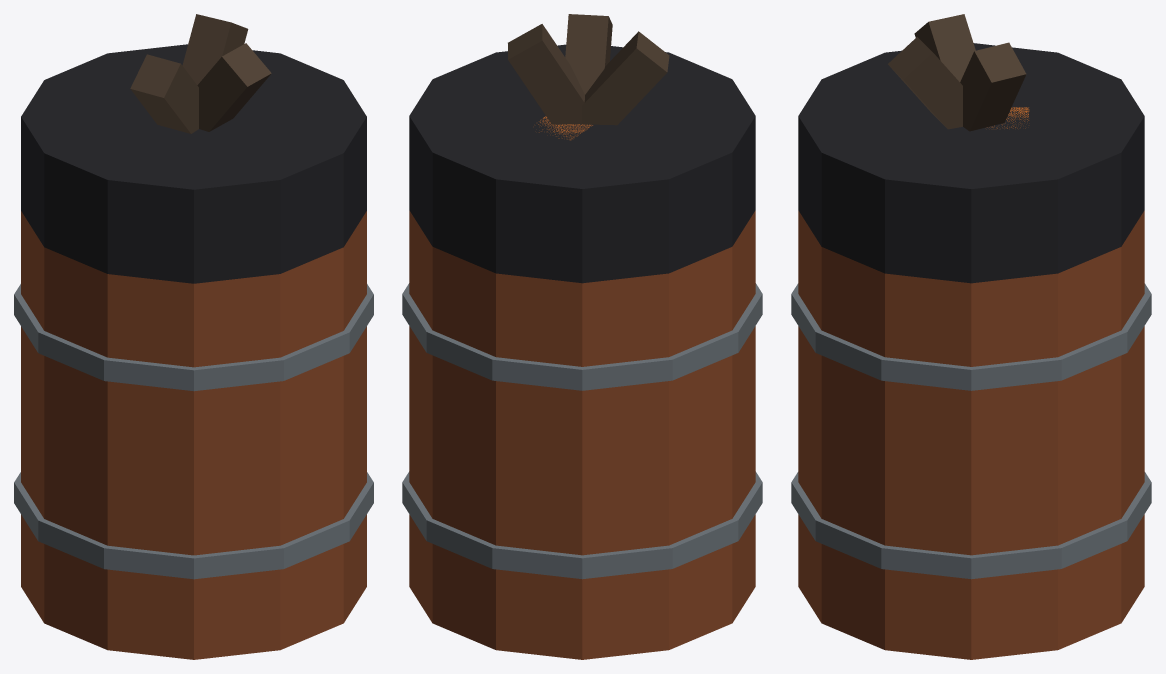
File: fire_barrel.glb
The picture shows the model from 3 angles, left to right: view 1: azimuth 30°, elevation 25°; view 2: azimuth 150°, elevation 25°; view 3: azimuth 270°, elevation 25°; orthographic projection.
Visible parts, largest first — view 1: fire_barrel; view 2: fire_barrel; view 3: fire_barrel.
Part boxes in pixels (bbox=[...]): fire_barrel: bbox=[14, 14, 373, 659]; fire_barrel: bbox=[402, 14, 762, 659]; fire_barrel: bbox=[791, 14, 1151, 659].
Size of what is drawn, in the model's own units: 0.624 by 1.06 by 0.624.
2 materials, 2 textured.
